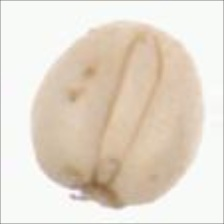L5: (91, 30, 161, 185), (66, 180, 135, 212), (110, 17, 182, 46)
L6: (27, 17, 205, 211)
